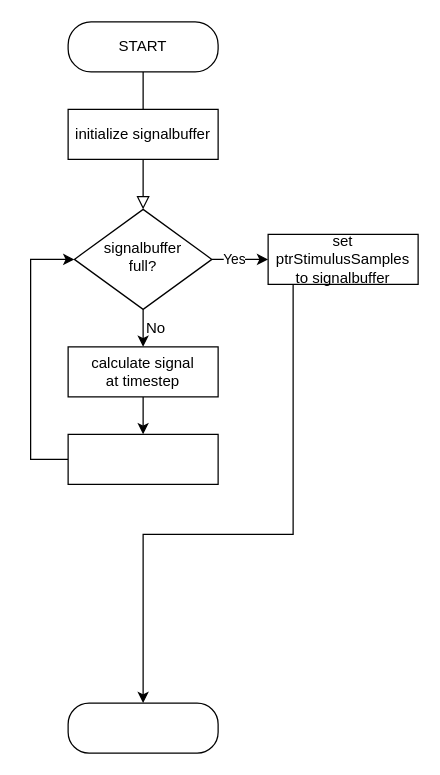
Image size: 440x775. Some labels were removed from this diagram. The centre of each missing label's shape, as x and y in pixels:
increase timestep: point (142, 458)
STOP: point (142, 727)
